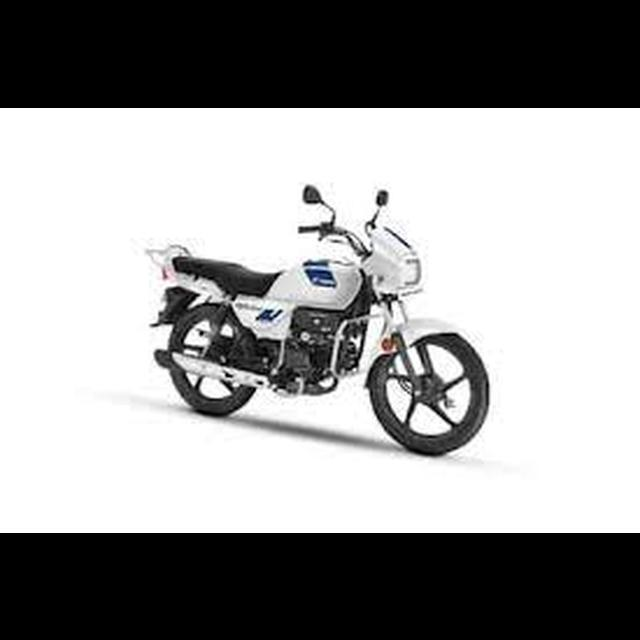motorcycle: (139, 175, 496, 461)
